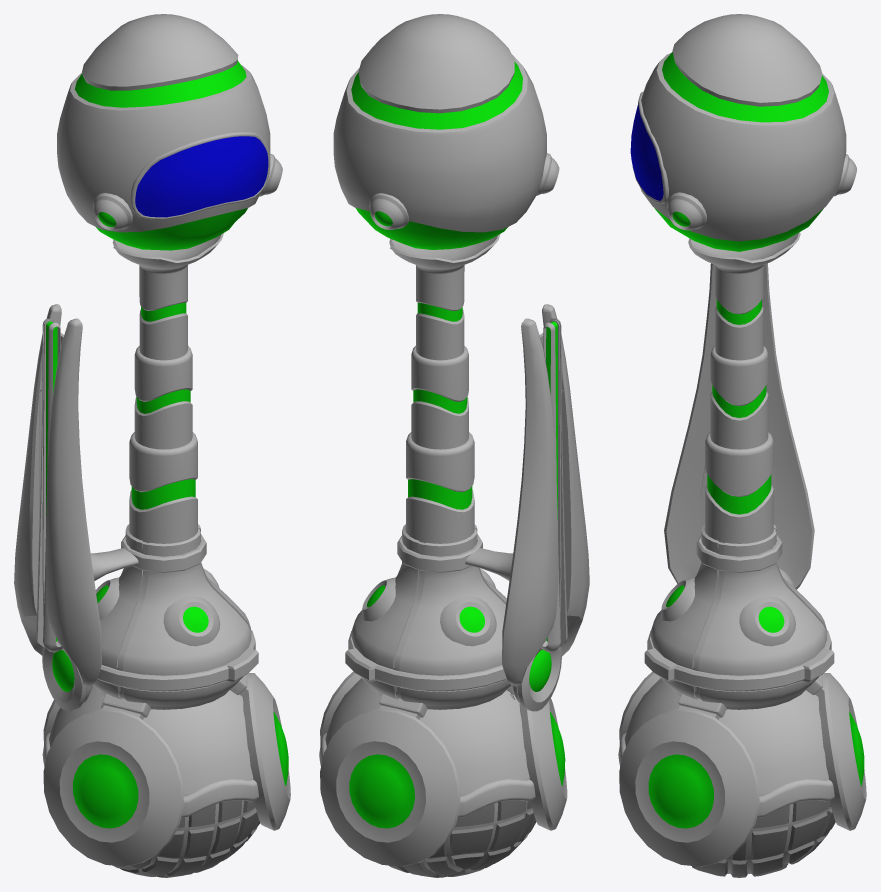
The model's file is agent_grp.fbx.
The picture shows the model from 3 angles, left to right: view 1: azimuth 30°, elevation 25°; view 2: azimuth 150°, elevation 25°; view 3: azimuth 270°, elevation 25°; orthographic projection.
Visible parts, largest first — view 1: agent_body, agent_head, agent_collarbone_1, agent_neck_1, agent_neck_3, agent_trackball, agent_neck_2, agent_collarbone_2; view 2: agent_body, agent_head, agent_collarbone_1, agent_neck_1, agent_neck_3, agent_trackball, agent_neck_2, agent_collarbone_2; view 3: agent_body, agent_head, agent_collarbone_1, agent_neck_1, agent_neck_3, agent_trackball, agent_neck_2.
Part boxes in pixels (<box>): agent_body: <box>42,524,290,866</box>; agent_head: <box>57,14,282,250</box>; agent_collarbone_1: <box>14,304,258,711</box>; agent_neck_1: <box>129,432,197,543</box>; agent_neck_3: <box>112,233,223,360</box>; agent_trackball: <box>101,704,260,877</box>; agent_neck_2: <box>134,346,192,449</box>; agent_collarbone_2: <box>36,318,62,652</box>; agent_body: <box>319,524,567,866</box>; agent_head: <box>333,14,559,249</box>; agent_collarbone_1: <box>345,304,589,711</box>; agent_neck_1: <box>406,432,474,543</box>; agent_neck_3: <box>389,234,500,360</box>; agent_trackball: <box>388,693,536,877</box>; agent_neck_2: <box>411,346,468,449</box>; agent_collarbone_2: <box>541,318,567,652</box>; agent_body: <box>618,524,866,866</box>; agent_head: <box>630,14,856,251</box>; agent_collarbone_1: <box>644,263,834,691</box>; agent_neck_1: <box>705,432,773,543</box>; agent_neck_3: <box>688,232,800,360</box>; agent_trackball: <box>692,800,835,877</box>; agent_neck_2: <box>710,346,768,449</box>.
Bounding box in the file's own units: 55.6 × 187 × 49.72.
